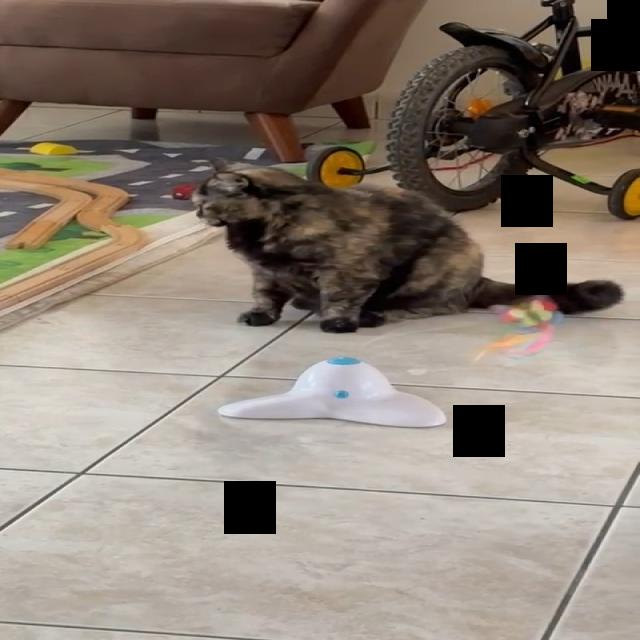authorized: (188, 156, 624, 334)
